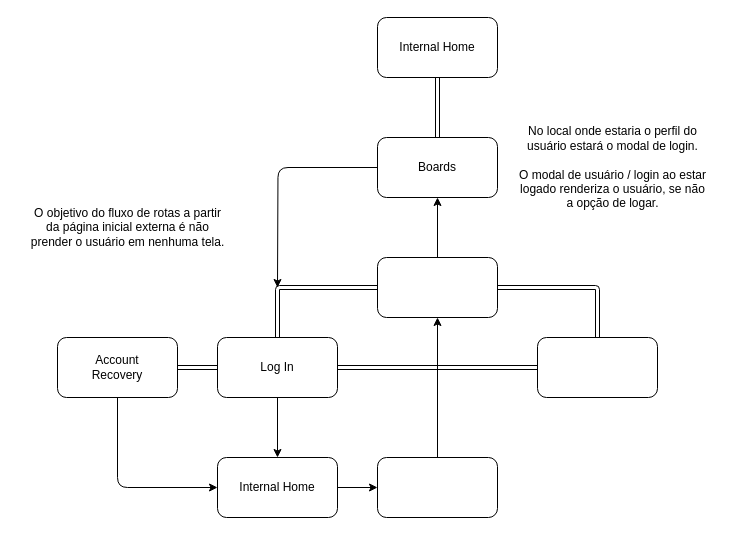
This 734x535 diagram has some shape labels left out. Here are the shapes that lost their labels. From the top down, the box of each, then its label:
(376, 256, 498, 318): External Home
(536, 336, 658, 398): Registry
(376, 456, 498, 518): Log Out
